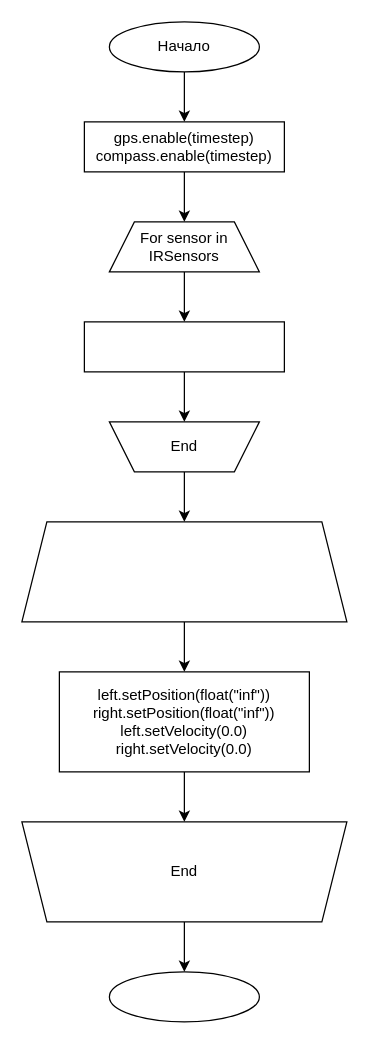
The diagram is 369 pixels wide and 1044 high, and some of its shapes have lost their labels. Here are the shapes that lost their labels. From the top down, the box of each, then its label:
(83, 321, 284, 372): sensor.enable(timestep)
(21, 521, 347, 622): for left, right in zip(leftWheels, rightWheels)
(108, 971, 259, 1022): Конец
